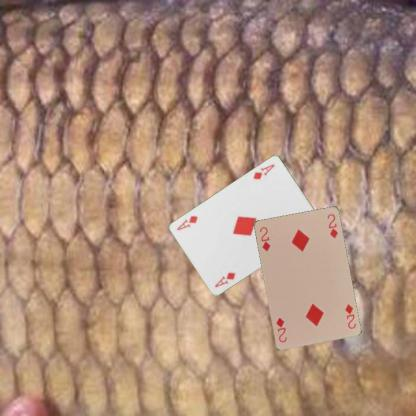2d: (257, 224, 272, 253), (342, 302, 357, 330)
Ad: (250, 162, 276, 181), (212, 270, 237, 289)
